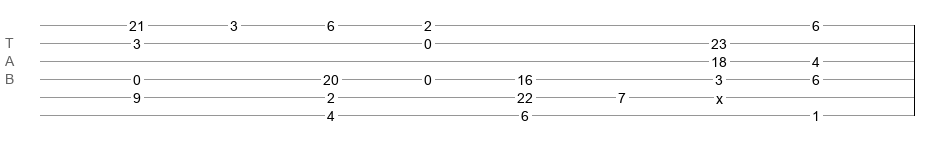0: (133, 72, 141, 82), (424, 36, 432, 46), (424, 72, 432, 82)
1: (812, 108, 820, 118)
16: (517, 72, 533, 82)
18: (711, 54, 727, 64)
2: (327, 90, 335, 100), (424, 18, 432, 28)
20: (323, 72, 339, 82)
21: (129, 18, 145, 28)
22: (517, 90, 533, 100)
23: (711, 36, 727, 46)
3: (133, 36, 141, 46), (230, 18, 238, 28), (715, 72, 723, 82)
4: (327, 108, 335, 118), (812, 54, 820, 64)
6: (327, 18, 335, 28), (521, 108, 529, 118), (812, 18, 820, 28), (812, 72, 820, 82)
7: (618, 90, 626, 100)
9: (133, 90, 141, 100)
x: (716, 91, 723, 99)
